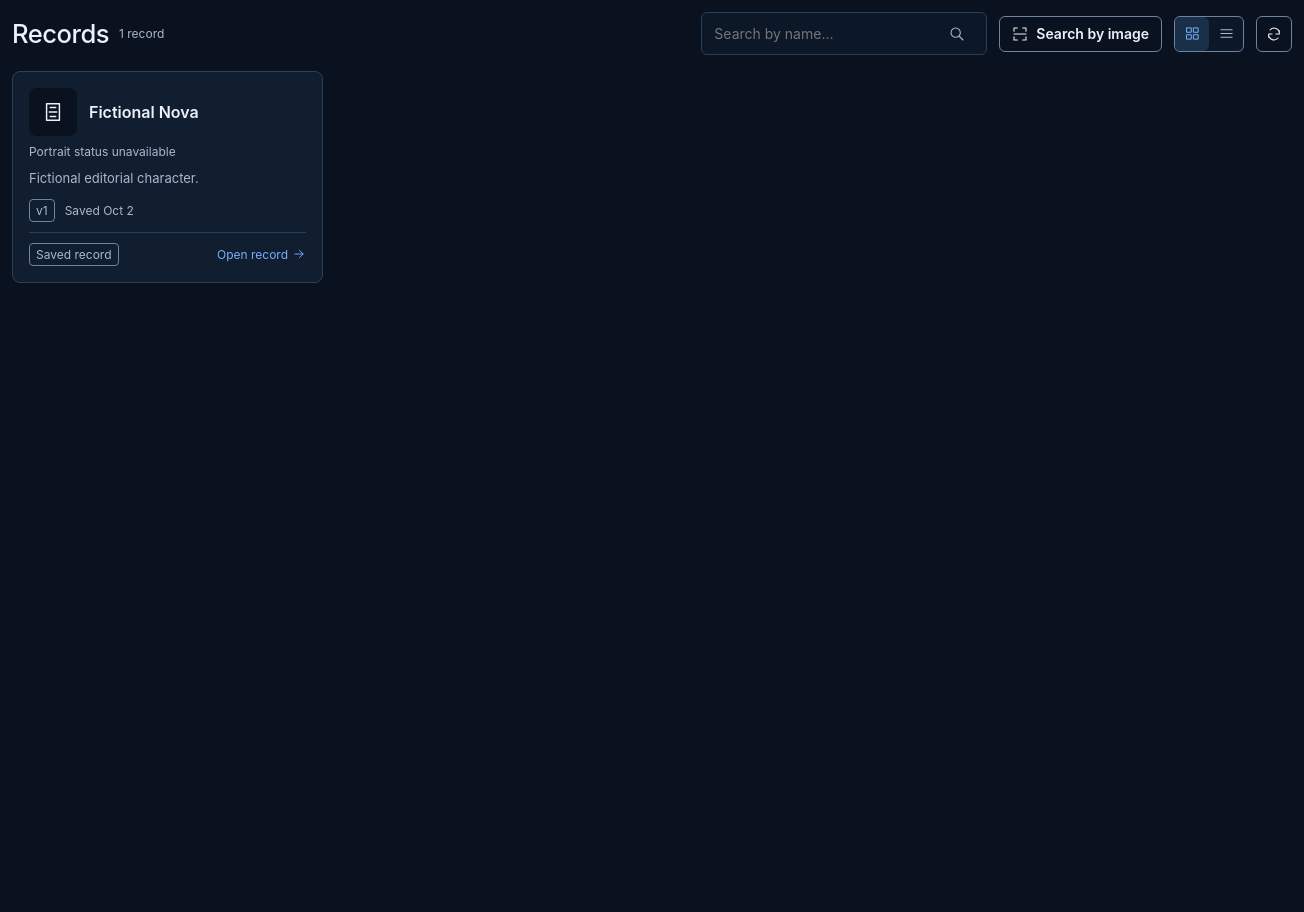
Test: saved record read surfaces › loads stored fixtures and separate version details without portrait or permission claims
Click the button with aria-label "Open record". click: [168, 177]
box: [12,71,323,283]
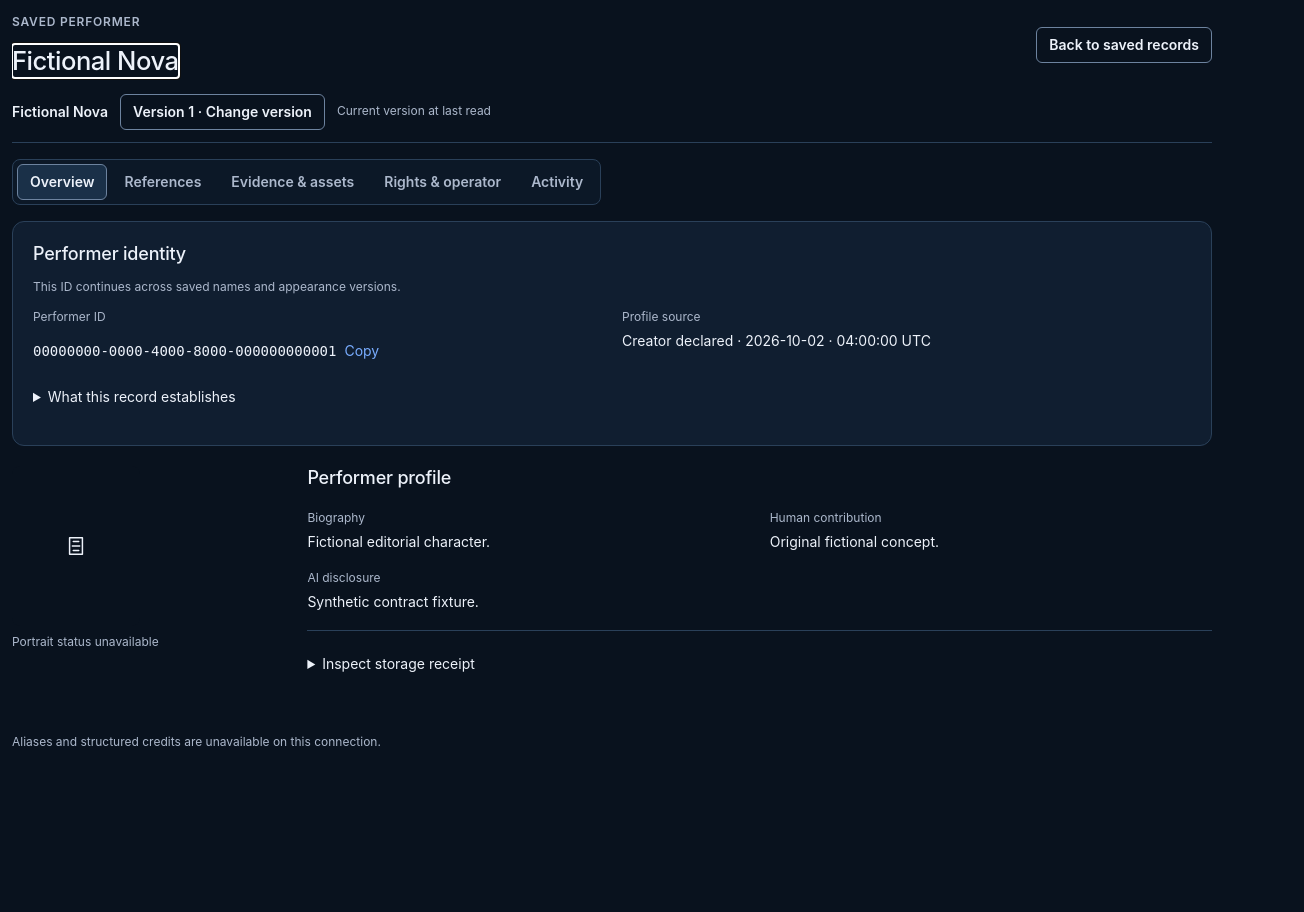
Result: the heading "Fictional Nova" is shown at [12,44,178,78]
Result: the text "Original fictional concept." is shown at [770,533,939,550]
Click the button "Back to saved records". click: [1124, 45]
box: [1036,27,1212,63]
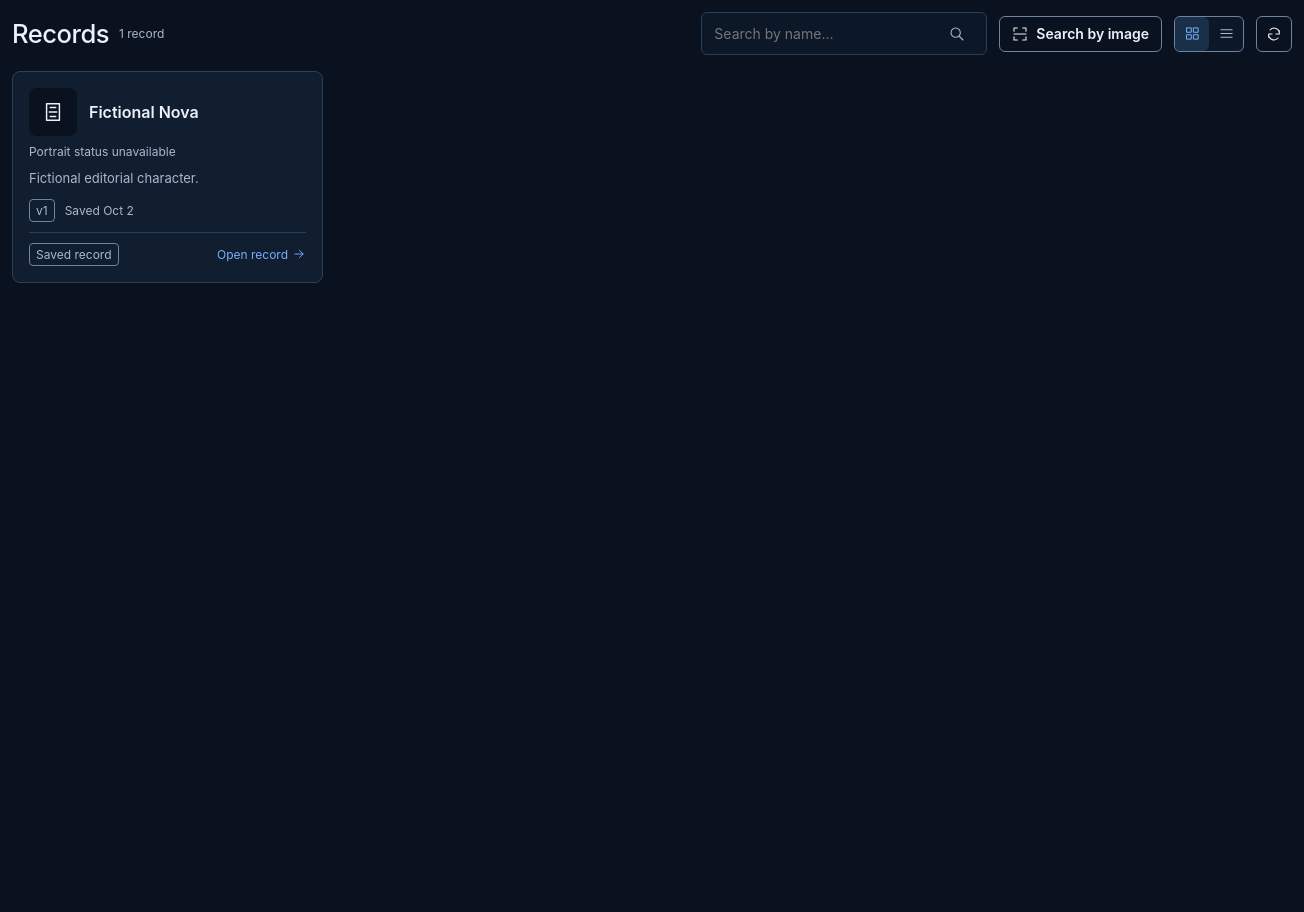
Result: the button with aria-label "Open record" is shown at [12,71,323,283]
